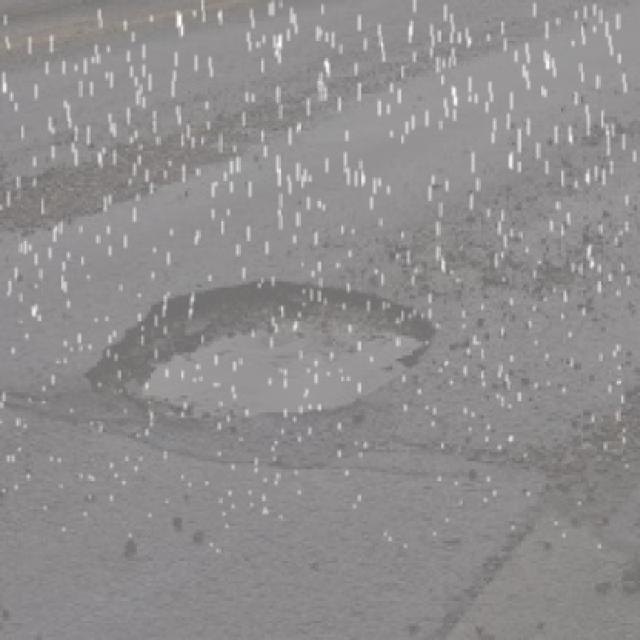Pothole: (0, 28, 417, 240), (94, 262, 443, 455), (511, 404, 640, 554)
